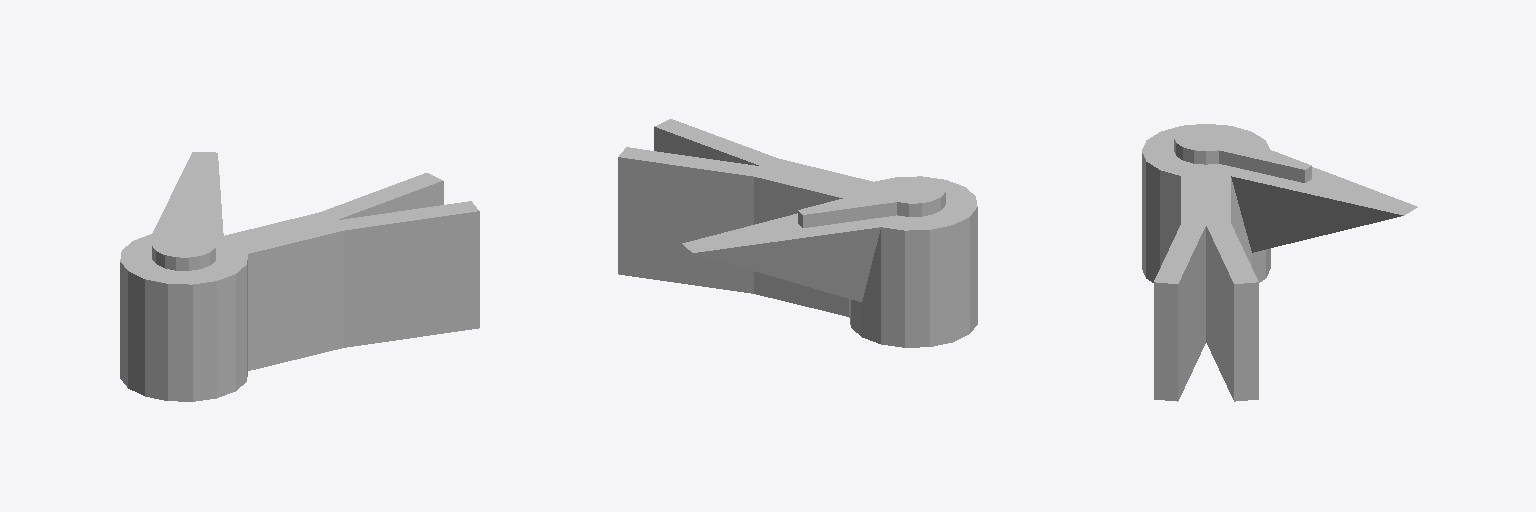
Rendered from blender-test.obj.
The picture shows the model from 3 angles: view 1: azimuth 30°, elevation 25°; view 2: azimuth 150°, elevation 25°; view 3: azimuth 270°, elevation 25°; orthographic projection.
Visible parts, largest first — view 1: Cylinder; view 2: Cylinder; view 3: Cylinder.
Part boxes in pixels (left/top/right/bottom): Cylinder: left=120, top=152, right=479, bottom=401; Cylinder: left=618, top=119, right=977, bottom=347; Cylinder: left=1142, top=124, right=1417, bottom=401.
Bounding box in the file's own units: 5.87 × 2.23 × 4.28.